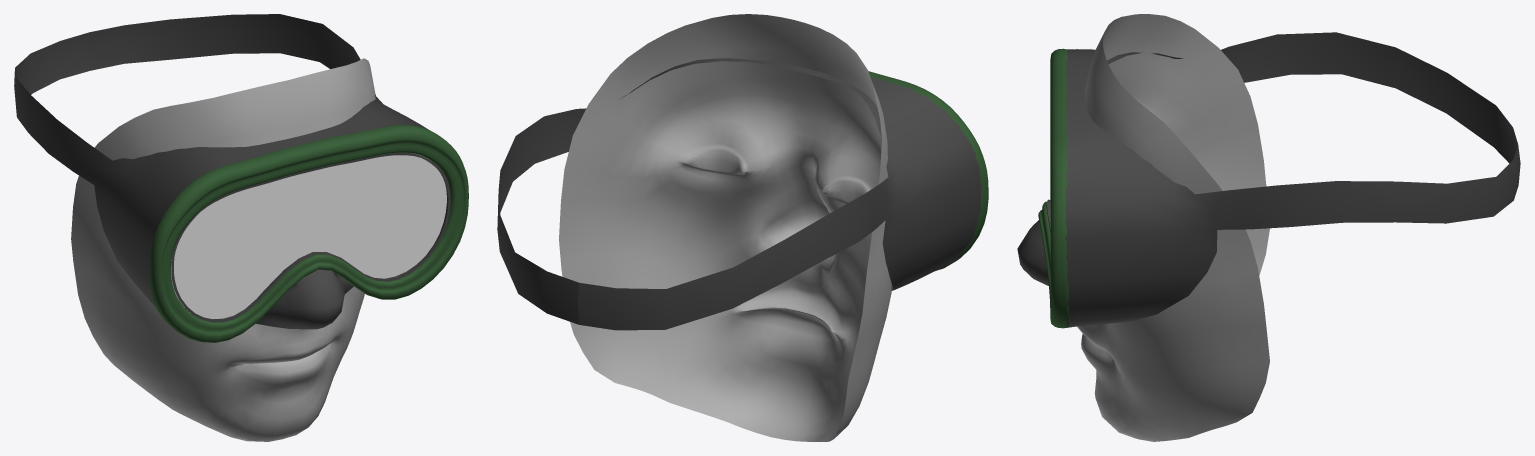
File: ScubaMask.fbx
3 views of the same model, side by side, from view 1: azimuth 30°, elevation 25°; view 2: azimuth 150°, elevation 25°; view 3: azimuth 270°, elevation 25° (orthographic). The views are drawn at different scales.
Visible parts, largest first — view 1: Mesh, MSH_Nose, MSH_Glass, MSH_Color, MSH_Border; view 2: Mesh, MSH_Nose, MSH_Color; view 3: MSH_Nose, Mesh, MSH_Color.
Boxes of the visible parts, x1,y1,x2,y2 form: Mesh: [71, 58, 375, 441]; MSH_Nose: [14, 14, 428, 329]; MSH_Glass: [171, 153, 446, 319]; MSH_Color: [149, 124, 468, 342]; MSH_Border: [171, 152, 450, 322]; Mesh: [559, 14, 891, 441]; MSH_Nose: [497, 58, 981, 330]; MSH_Color: [868, 71, 988, 270]; MSH_Nose: [1017, 32, 1520, 327]; Mesh: [1077, 14, 1269, 441]; MSH_Color: [1038, 48, 1069, 328].
Bounding box in the file's own units: 0.1661 × 0.1865 × 0.2197.
